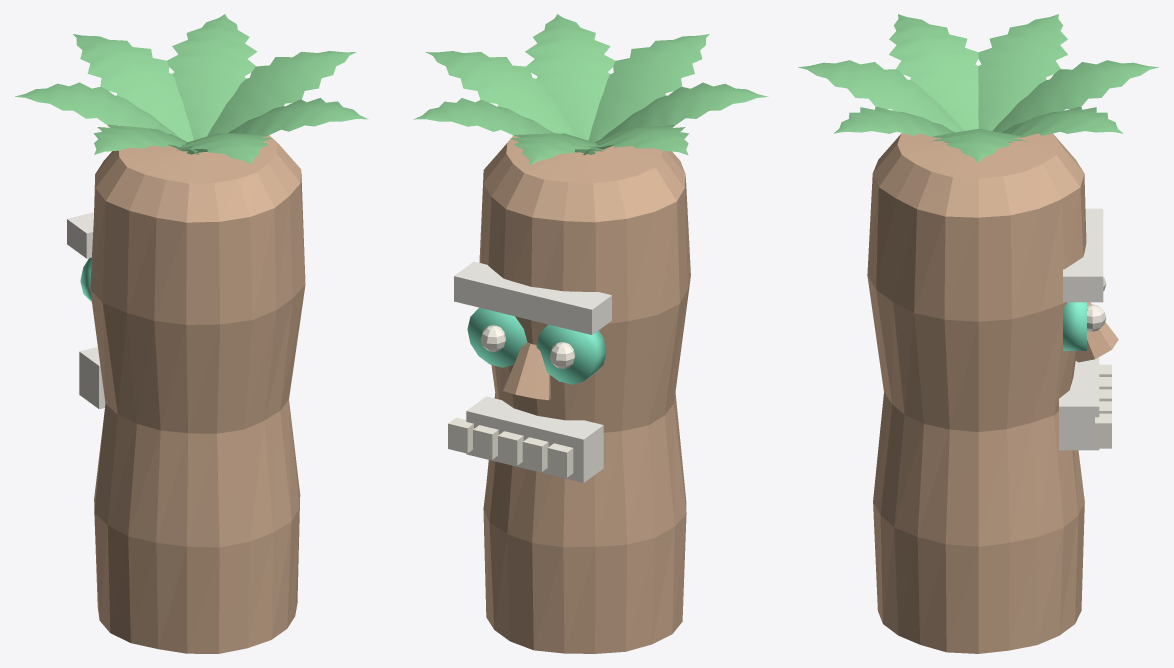
Rendered from BumperTikiTotem.glb.
The picture shows the model from 3 angles, left to right: view 1: azimuth 30°, elevation 25°; view 2: azimuth 150°, elevation 25°; view 3: azimuth 270°, elevation 25°; orthographic projection.
Visible parts, largest first — view 1: Wood, Leaves, Paint; view 2: Wood, Leaves, Paint, Teeth, Eyes; view 3: Wood, Leaves, Paint, Teeth, Eyes.
Part boxes in pixels (x1,y1,x2,y2): Wood: (90,135,305,653); Leaves: (15,14,368,164); Paint: (67,212,105,409); Wood: (479,135,690,653); Leaves: (413,14,768,165); Paint: (454,261,611,482); Teeth: (448,325,575,477); Eyes: (467,307,606,384); Wood: (867,133,1118,653); Leaves: (798,14,1158,162); Paint: (1059,208,1103,450); Teeth: (1087,277,1111,448); Eyes: (1063,302,1086,350).
Size of the model in its own units: 4.68 by 7.26 by 4.51.
